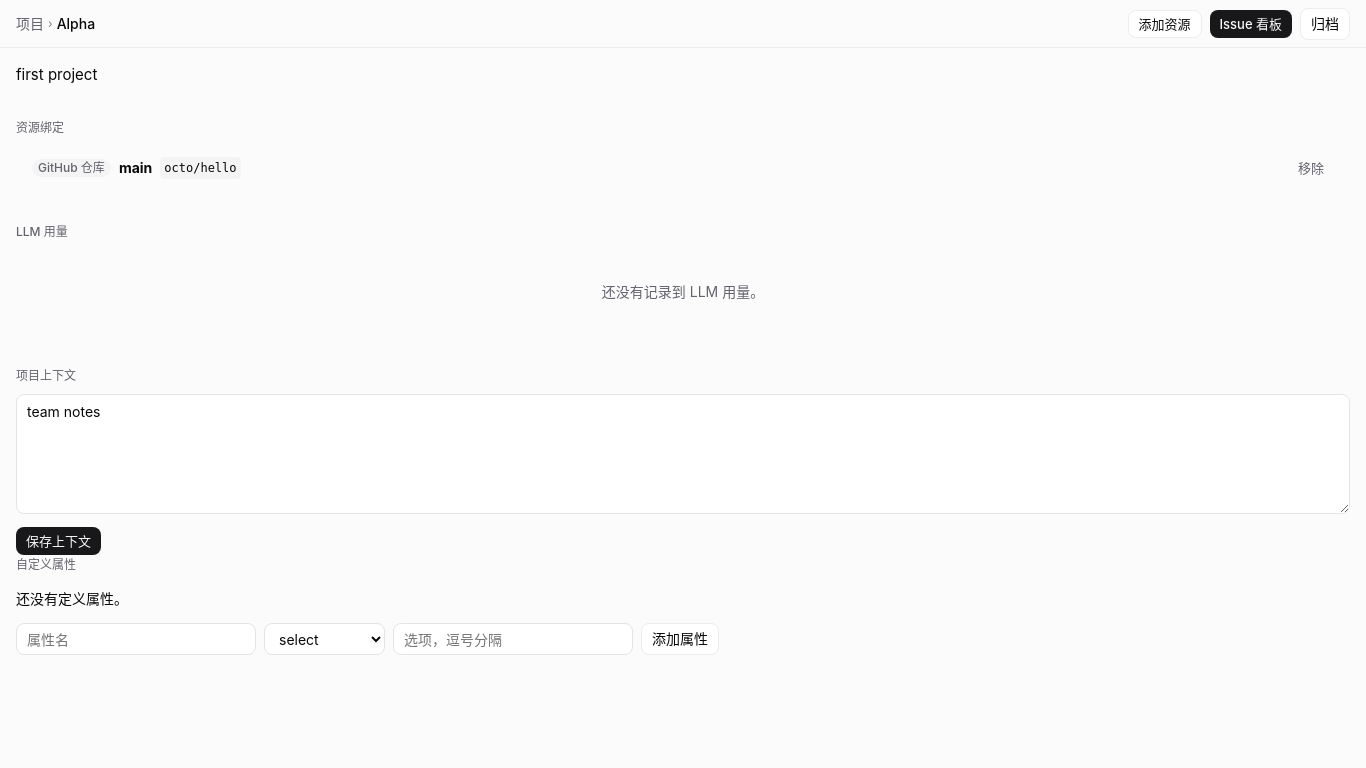
Test: ProjectDetailPage › archives the project from the detail page
Click the button with test id "toggle-archive". click: click(1325, 24)
box: [1300,8,1350,40]
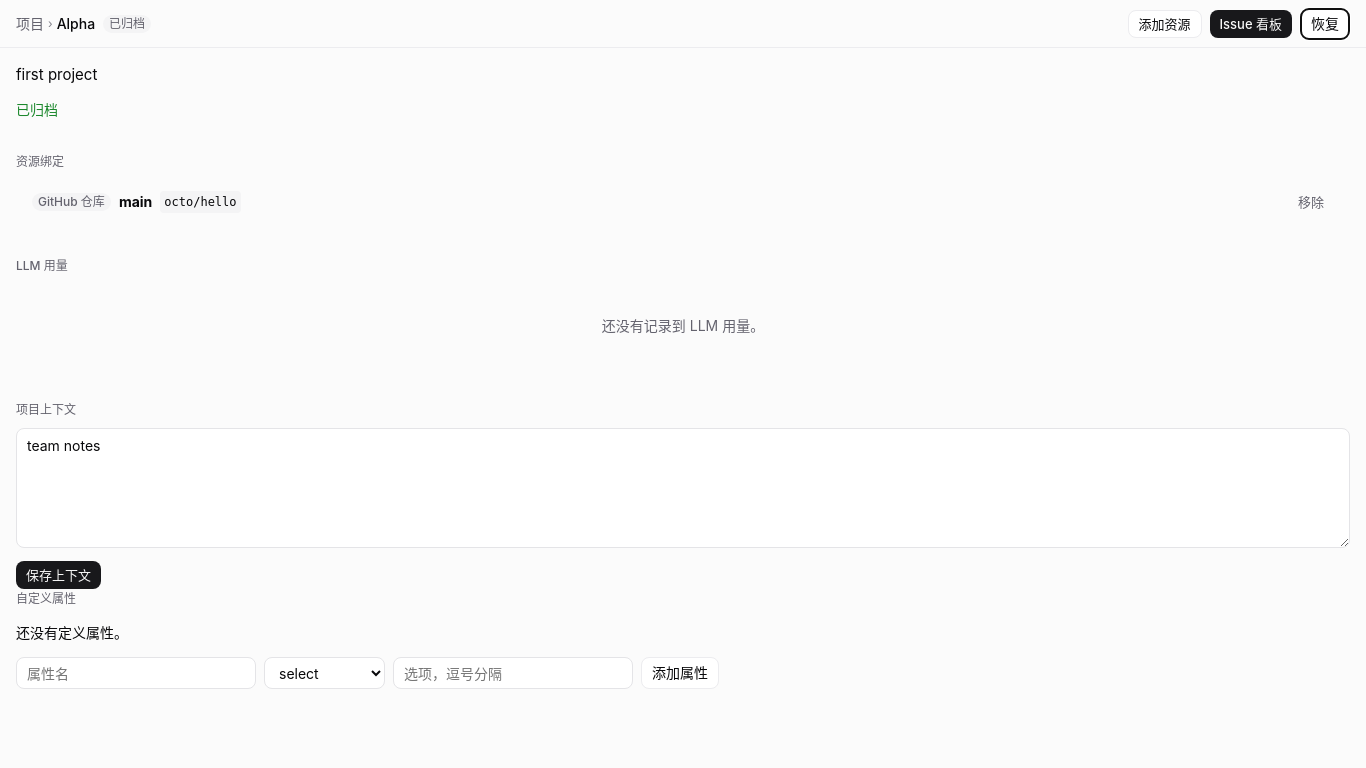
expect the text "已归档" next to "Alpha" is shown: met, box [109,16,145,30]
